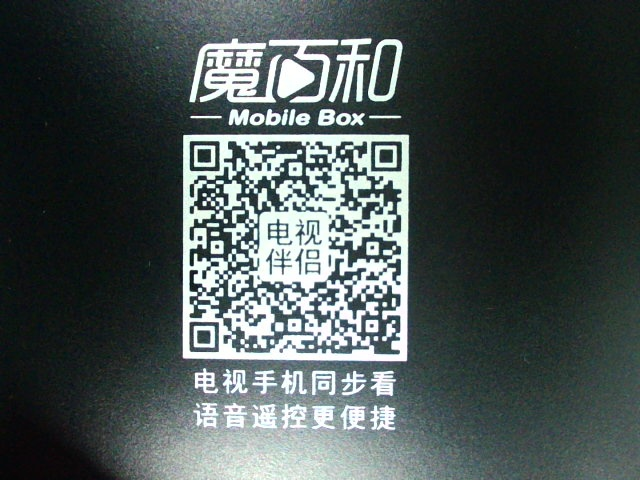AZ_MobileBox: (176, 32, 411, 431)
